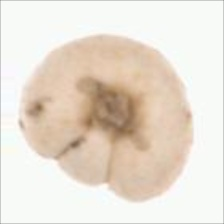L5: (17, 31, 194, 204), (56, 130, 117, 189)
L6: (73, 75, 144, 143)
